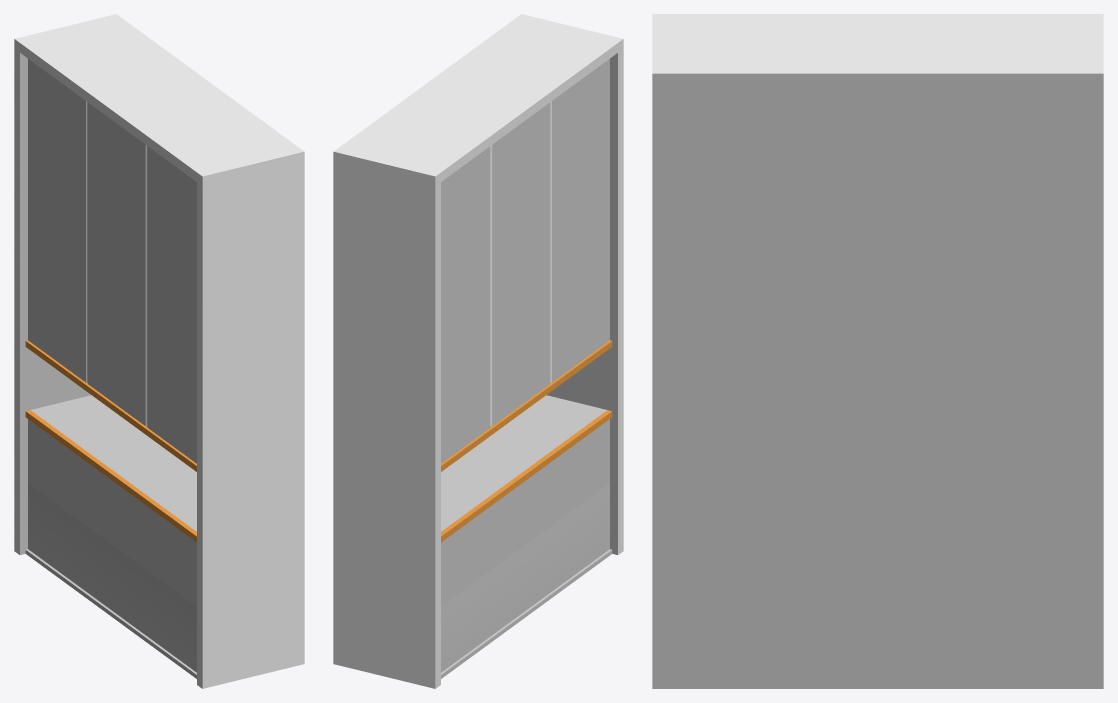
File: SM_H_Residential_Bedroom_Cabinet_01_ATLAS.fbx
3 renders of one model, left to right at view 1: azimuth 30°, elevation 25°; view 2: azimuth 150°, elevation 25°; view 3: azimuth 270°, elevation 25°, orthographic. The views are drawn at different scales.
Parts seen in each view (by area): view 1: SM_H_Residential_Bedroom_Cabinet_01_ATLAS; view 2: SM_H_Residential_Bedroom_Cabinet_01_ATLAS; view 3: SM_H_Residential_Bedroom_Cabinet_01_ATLAS.
Part boxes in pixels (x1,y1,x2,y2): SM_H_Residential_Bedroom_Cabinet_01_ATLAS: [14, 14, 304, 688]; SM_H_Residential_Bedroom_Cabinet_01_ATLAS: [333, 14, 623, 688]; SM_H_Residential_Bedroom_Cabinet_01_ATLAS: [652, 14, 1103, 688].
Bounding box in the file's own units: 74.15 × 237 × 356.
